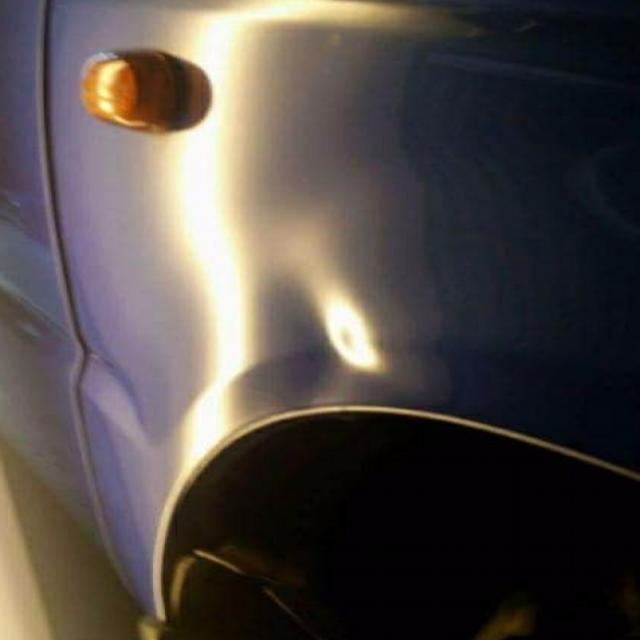dents: (250, 270, 413, 412)
